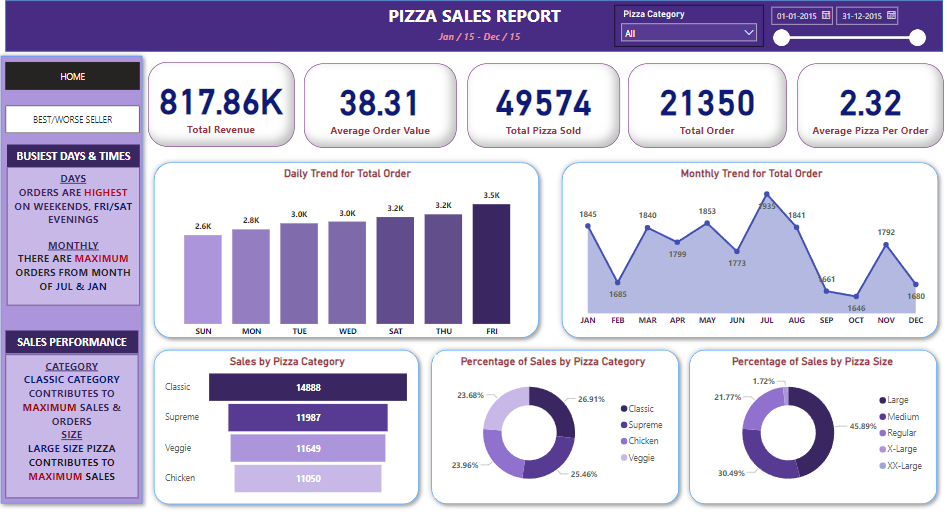

The page's visual inventory and layout, read from the dashboard file:
{"tool":"powerbi","page":{"name":"HOME","canvas":[1500,820],"ordinal":0},"visuals":[{"type":"card","fields":{"Values":["pizza_sales.Total Revenue"]},"box":[237.5,112.5,227.1,131.2],"z":0},{"type":"card","fields":{"Values":["pizza_sales.Average Pizza Per Order"]},"box":[1244.2,113.5,226.9,130.8],"z":1000},{"type":"card","fields":{"Values":["pizza_sales.Average Order Value"]},"box":[478.8,113.5,236.5,130.8],"z":2000},{"type":"card","fields":{"Values":["pizza_sales.Total Pizza Sold"]},"box":[732.7,113.5,236.5,130.8],"z":3000},{"type":"card","fields":{"Values":["pizza_sales.Total Order"]},"box":[982.7,113.5,246.2,130.8],"z":4000},{"type":"shape","box":[16.7,16.7,1454.2,79.2],"z":5000},{"type":"textbox","box":[603.8,15.4,292.3,51.9],"z":6000},{"type":"textbox","box":[667.3,55.8,167.3,38.5],"z":7000},{"type":"shape","box":[236.5,257.7,615.4,290.4],"z":8000},{"type":"clusteredColumnChart","title":"Daily Trend for Total Order","fields":{"Category":["pizza_sales.Order Day"],"Y":["pizza_sales.Total Order"]},"box":[257.7,275,576.9,273.1],"z":9000},{"type":"shape","box":[869.2,257.7,601.9,290.4],"z":10000},{"type":"areaChart","title":"Monthly Trend for Total Order","fields":{"Y":["pizza_sales.Total Order"],"Category":["pizza_sales.Order Month"]},"box":[896.2,275,555.8,255.8],"z":11000},{"type":"shape","box":[236.5,548.1,428.8,257.7],"z":12000},{"type":"shape","box":[666.6,548.9,402.2,257.2],"z":13000},{"type":"funnel","title":"Sales by Pizza Category","fields":{"Category":["pizza_sales.pizza_category"],"Y":["Sum(pizza_sales.quantity)"]},"box":[257.7,565.4,390.4,223.1],"z":14000},{"type":"shape","box":[1068.8,548.9,402.2,257.2],"z":15000},{"type":"donutChart","title":"Percentage of Sales by Pizza Category","fields":{"Category":["pizza_sales.pizza_category"],"Y":["pizza_sales.Total Revenue"]},"box":[681.1,565.2,367.7,222.8],"z":16000},{"type":"donutChart","title":"Percentage of Sales by Pizza Size","fields":{"Y":["pizza_sales.Total Revenue"],"Category":["pizza_sales.pizza_size"]},"box":[1085.1,565.2,367.7,222.8],"z":17000},{"type":"shape","box":[0,93.8,237.5,712.5],"z":18000},{"type":"textbox","box":[18.8,239.6,206.2,35.4],"z":19000},{"type":"textbox","box":[18.8,275,206.2,214.6],"z":20000},{"type":"textbox","box":[16.7,529.2,206.2,35.4],"z":21000},{"type":"textbox","box":[16.7,564.6,206.2,222.9],"z":22000},{"type":"slicer","fields":{"Values":["pizza_sales.pizza_category"]},"box":[960.4,22.9,231.2,64.6],"z":23000},{"type":"slicer","fields":{"Values":["pizza_sales.order_date"]},"box":[1191.7,16.7,260.4,72.9],"z":24000},{"type":"pageNavigator","box":[16.7,112.5,208.3,43.8],"z":25000},{"type":"pageNavigator","box":[16.7,179.2,208.3,43.8],"z":26000}]}

Visuals, with their boxes in screenshot pixels (x1, y1, x2, y2), scaled from the page's 1500x820 canvas onto the 947x514 screenshot:
card - pizza_sales.Total Revenue: [left=150, top=71, right=293, bottom=153]
card - pizza_sales.Average Pizza Per Order: [left=786, top=71, right=929, bottom=153]
card - pizza_sales.Average Order Value: [left=302, top=71, right=452, bottom=153]
card - pizza_sales.Total Pizza Sold: [left=463, top=71, right=612, bottom=153]
card - pizza_sales.Total Order: [left=620, top=71, right=776, bottom=153]
shape: [left=11, top=10, right=929, bottom=60]
textbox: [left=381, top=10, right=566, bottom=42]
textbox: [left=421, top=35, right=527, bottom=59]
shape: [left=149, top=162, right=538, bottom=344]
"Daily Trend for Total Order" clusteredColumnChart: [left=163, top=172, right=527, bottom=344]
shape: [left=549, top=162, right=929, bottom=344]
"Monthly Trend for Total Order" areaChart: [left=566, top=172, right=917, bottom=333]
shape: [left=149, top=344, right=420, bottom=505]
shape: [left=421, top=344, right=675, bottom=505]
"Sales by Pizza Category" funnel: [left=163, top=354, right=409, bottom=494]
shape: [left=675, top=344, right=929, bottom=505]
"Percentage of Sales by Pizza Category" donutChart: [left=430, top=354, right=662, bottom=494]
"Percentage of Sales by Pizza Size" donutChart: [left=685, top=354, right=917, bottom=494]
shape: [left=0, top=59, right=150, bottom=505]
textbox: [left=12, top=150, right=142, bottom=172]
textbox: [left=12, top=172, right=142, bottom=307]
textbox: [left=11, top=332, right=141, bottom=354]
textbox: [left=11, top=354, right=141, bottom=494]
slicer - pizza_sales.pizza_category: [left=606, top=14, right=752, bottom=55]
slicer - pizza_sales.order_date: [left=752, top=10, right=917, bottom=56]
pageNavigator: [left=11, top=71, right=142, bottom=98]
pageNavigator: [left=11, top=112, right=142, bottom=140]
